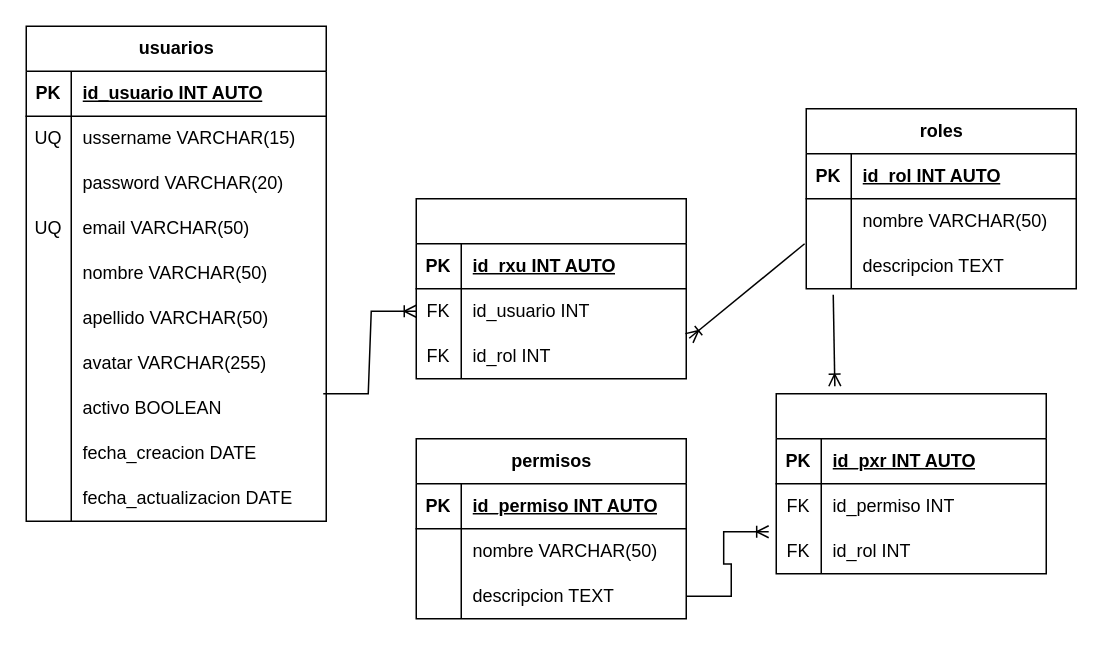
Some shapes in this 1103 by 645 pixel diagram are drawn without their labels. Each missing label, with the box of its shape:
permisos_x_roles: (775, 392, 1046, 574)
roles_x_usuario: (415, 197, 686, 379)
